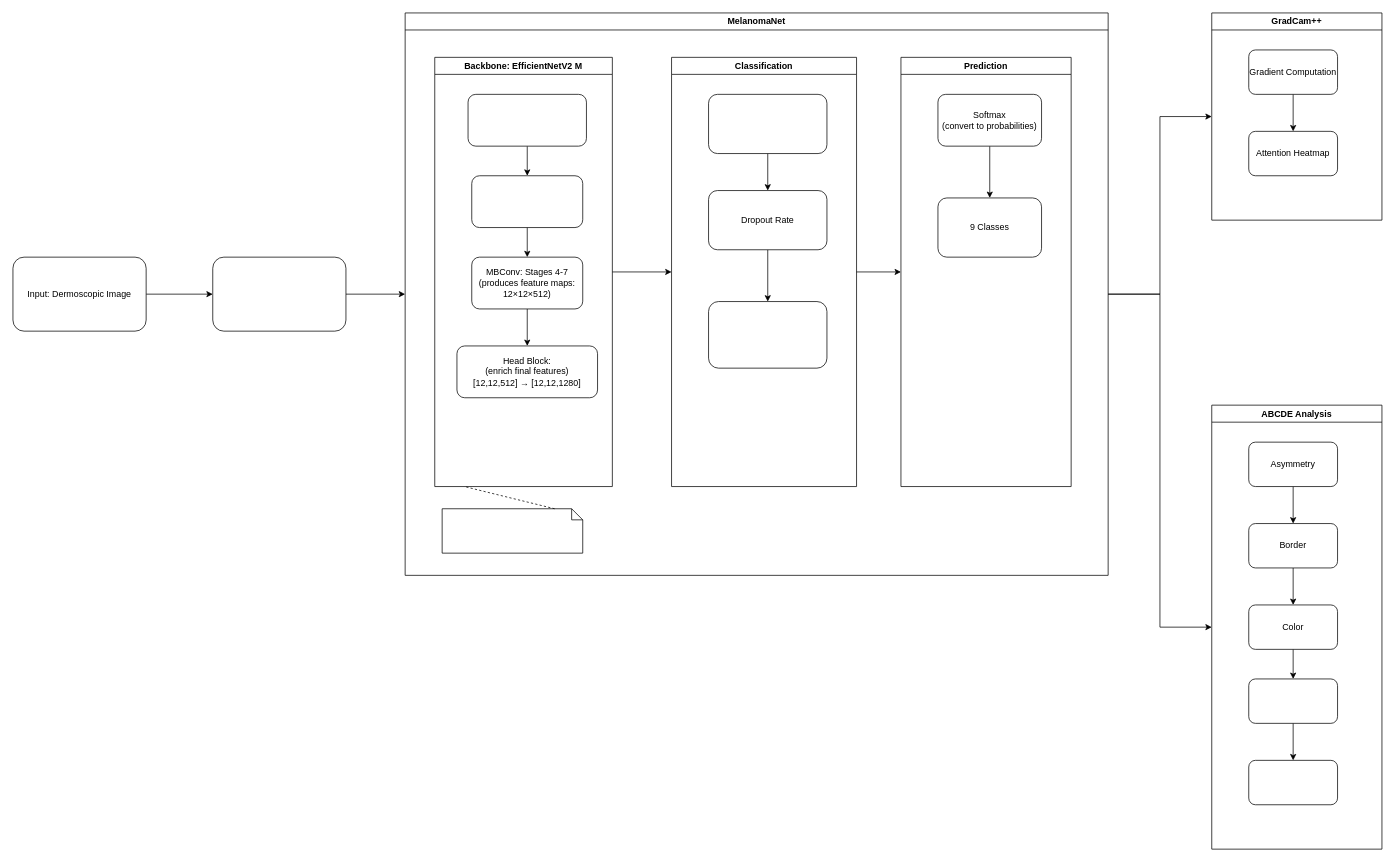
The diagram is 1395 pixels wide and 862 high, and some of its shapes have lost their labels. Here are the shapes that lost their labels. From the top down, the centre of each, then its label:
At point 526,120: "Stem Block (initial feature extraction) [384,384,3] → [192,192,24]".
At point 767,124: "Global Avg Pool (squeeze to 1280 features)".
At point 527,201: "MBConv: Stages 1-3 (detect basic features: edges, textures)".
At point 279,293: "Preprocess: Resize to 384x384".
At point 767,334: "Fully Connected Layer (transform to 9 class scores)".
At point 512,530: "54M Pretrained ImageNet Model".
At point 1293,700: "Diameter".
At point 1293,782: "Risk Assessment".
